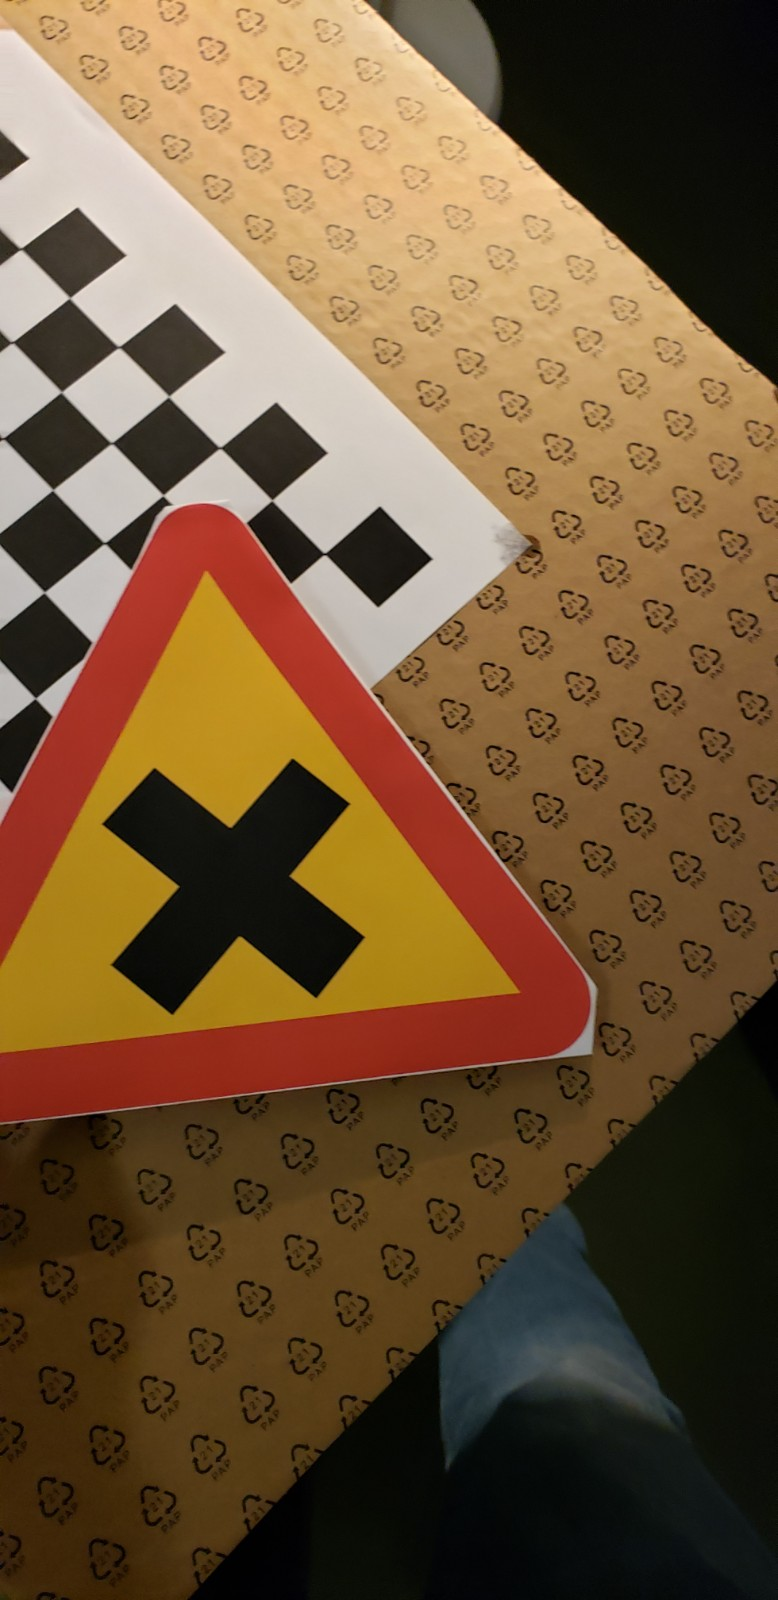junction: (11, 476, 636, 1230)
